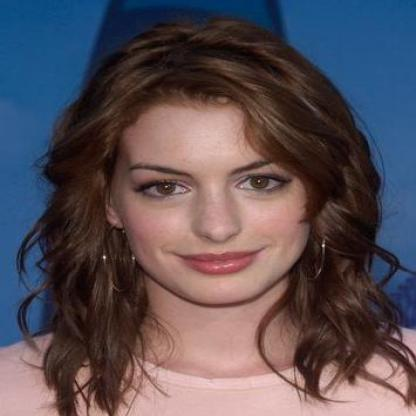long-hair: (26, 307, 402, 370)
